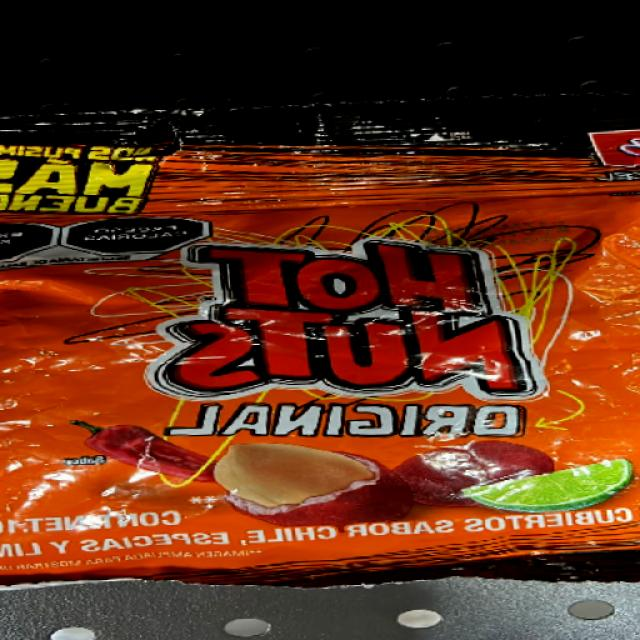hotNutsOriginal: (0, 110, 640, 590)
